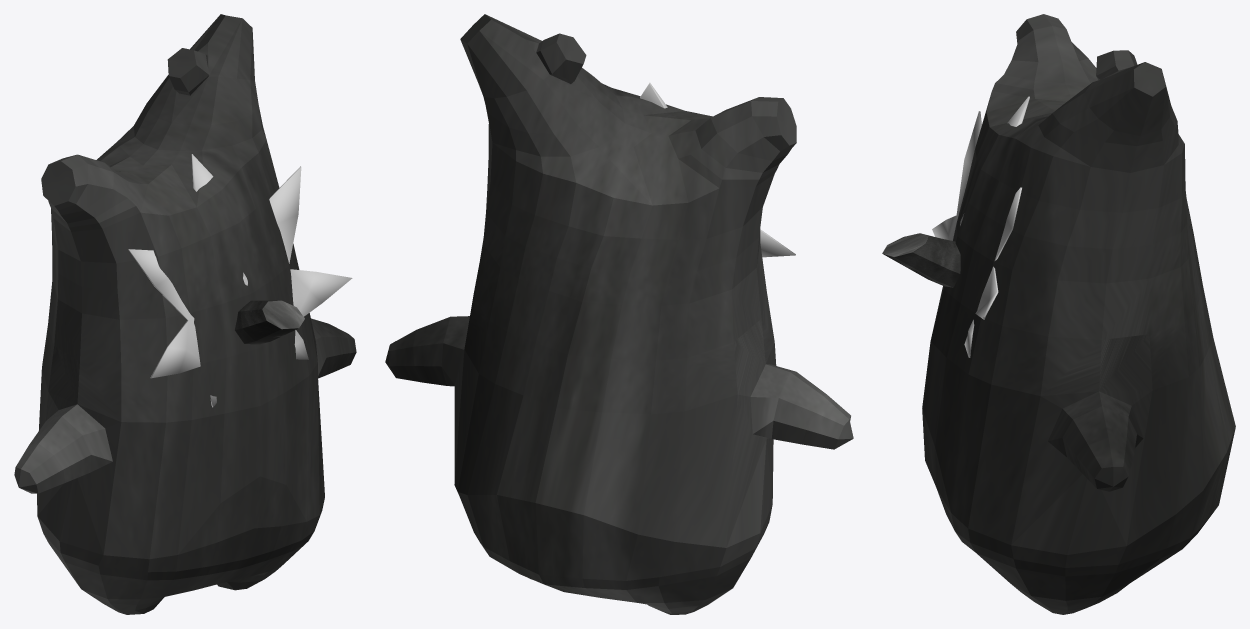
File: frame_0038.obj
3 renders of one model, left to right at view 1: azimuth 30°, elevation 25°; view 2: azimuth 150°, elevation 25°; view 3: azimuth 270°, elevation 25°, orthographic. The views are drawn at different scales.
Parts seen in each view (by area): view 1: korok, leaf, nose.003_柱体.011; view 2: korok, leaf; view 3: korok, nose.003_柱体.011, leaf.
Part boxes in pixels (x1,y1,x2,y2): korok: [14, 14, 356, 614]; leaf: [128, 154, 352, 407]; nose.003_柱体.011: [235, 300, 304, 344]; korok: [385, 14, 853, 614]; leaf: [640, 82, 795, 257]; korok: [922, 14, 1235, 614]; nose.003_柱体.011: [882, 233, 960, 287]; leaf: [932, 96, 1029, 357].
Bounding box in the file's own units: 1.71 × 2.3 × 1.31.
